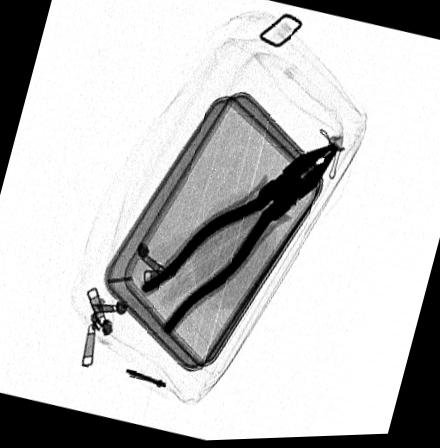Pliers: (140, 144, 339, 333)
